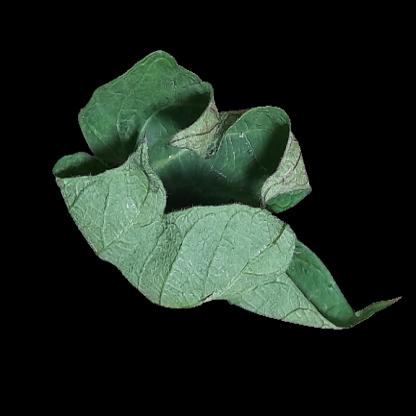curl_stage2: (178, 181, 287, 301), (114, 146, 177, 271), (174, 81, 235, 185), (265, 281, 333, 327), (67, 176, 119, 233), (137, 266, 191, 304), (276, 135, 306, 198)
